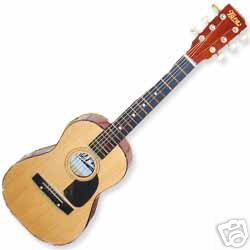guitar: (1, 4, 248, 247)
